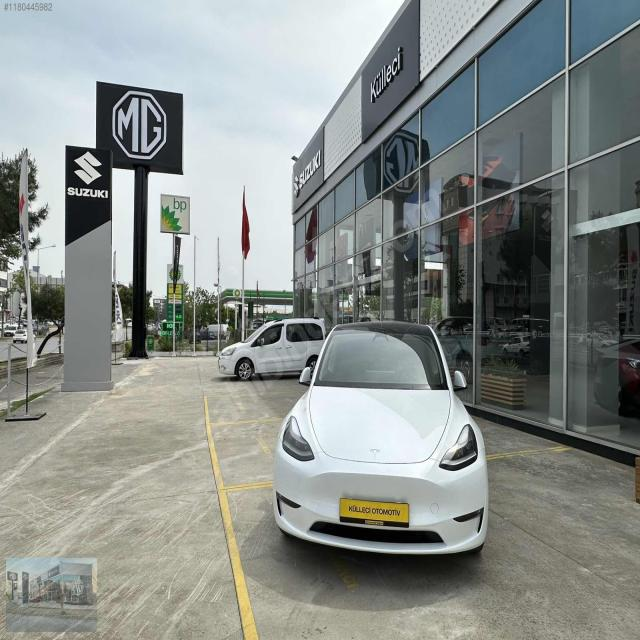mg: (114, 88, 168, 163)
suzuki: (74, 148, 103, 188)
tesla: (370, 447, 382, 457)
